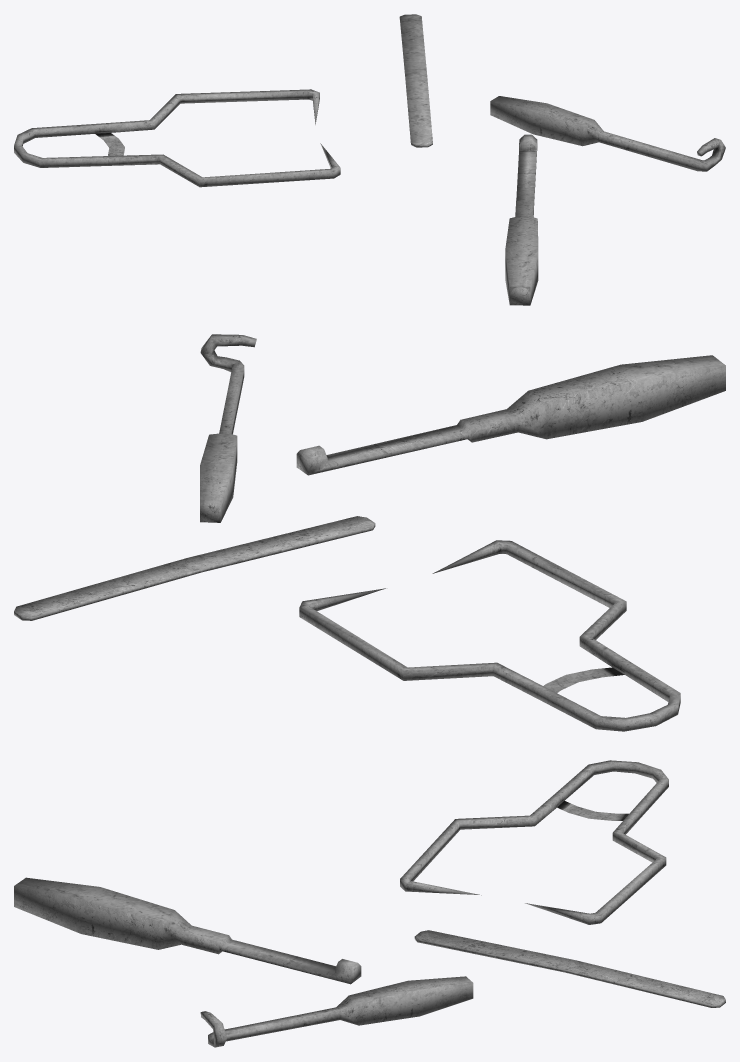
File: tools_1.fbx
3 renders of one model, top to bottom at view 1: azimuth 30°, elevation 25°; view 2: azimuth 150°, elevation 25°; view 3: azimuth 270°, elevation 25°, orthographic. The views are drawn at different scales.
Parts seen in each view (by area): view 1: Tools.001; view 2: Tools.001; view 3: Tools.001.
Part boxes in pixels (left/top/right/bottom): Tools.001: left=14, top=14, right=725, bottom=305; Tools.001: left=14, top=334, right=725, bottom=731; Tools.001: left=14, top=760, right=725, bottom=1047.
Bounding box in the file's own units: 216 × 14.8 × 225.
1 material, 1 textured.
